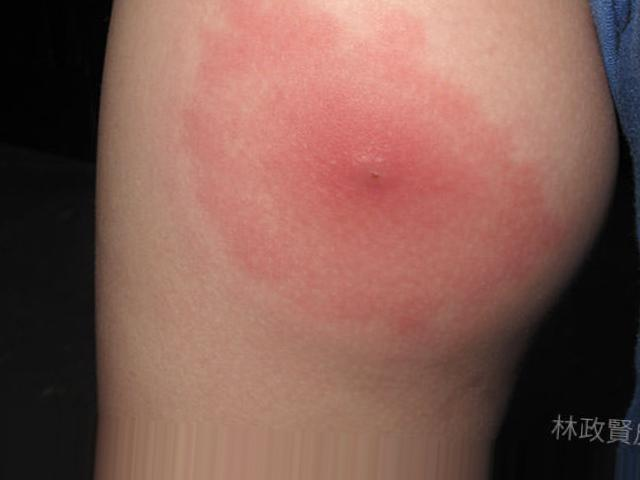Mosquito: (207, 28, 540, 326)
